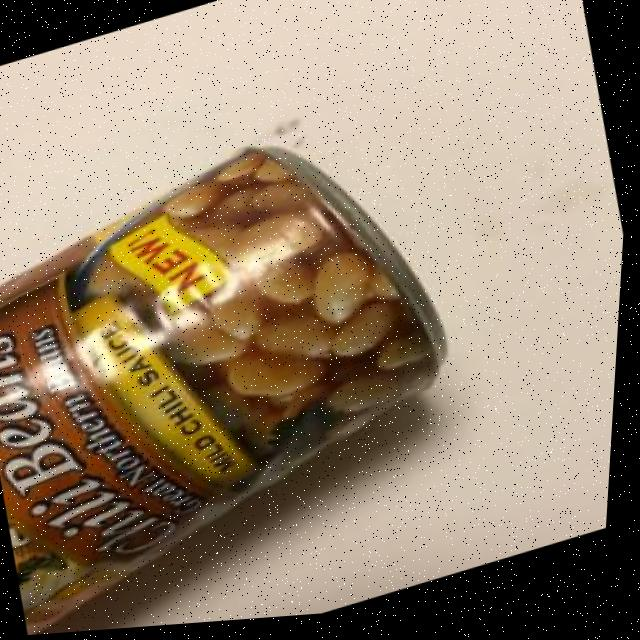metal: (0, 82, 522, 640)
